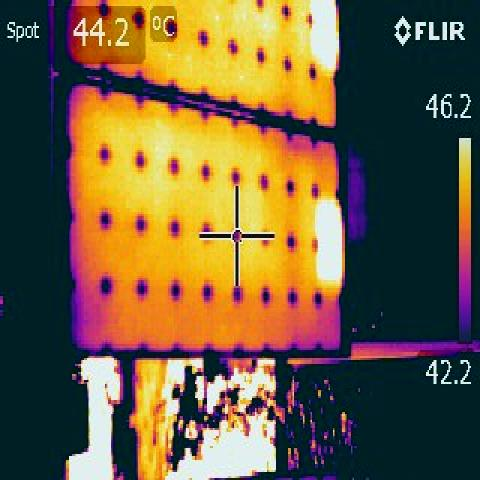fault: (314, 198, 344, 284), (307, 0, 339, 74)
